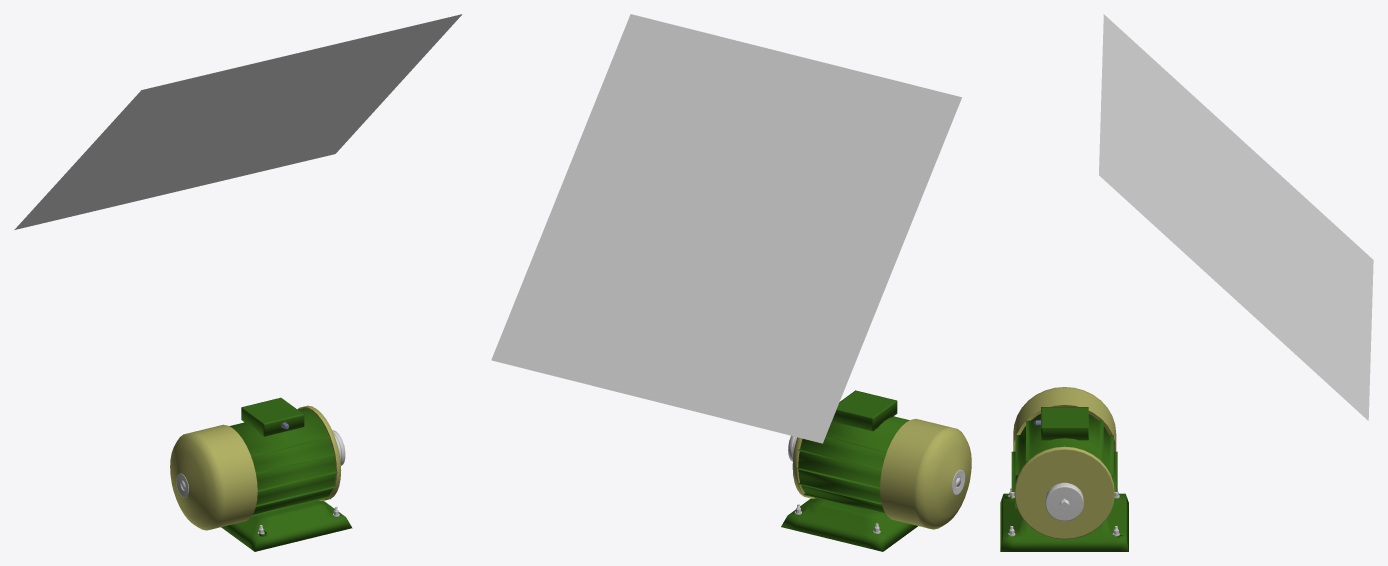
The model's file is motor_base.dae.
The picture shows the model from 3 angles, left to right: view 1: azimuth 30°, elevation 25°; view 2: azimuth 150°, elevation 25°; view 3: azimuth 270°, elevation 25°; orthographic projection. The views are drawn at different scales.
Visible parts, largest first — view 1: Reflector, fan_cover, casing, base, electric_box, front_casing; view 2: Reflector, fan_cover, casing, base, electric_box; view 3: Reflector, front_casing, base, casing, fan_cover, electric_box, Coupler.
Part boxes in pixels (left/top/right/bottom): Reflector: left=14, top=14, right=462, bottom=229; fan_cover: left=170, top=424, right=257, bottom=530; casing: left=229, top=408, right=337, bottom=516; base: left=221, top=500, right=352, bottom=551; electric_box: left=241, top=397, right=304, bottom=436; front_casing: left=297, top=405, right=341, bottom=500; Reflector: left=491, top=14, right=961, bottom=443; fan_cover: left=880, top=419, right=971, bottom=529; casing: left=796, top=416, right=909, bottom=515; base: left=781, top=498, right=917, bottom=551; electric_box: left=832, top=390, right=897, bottom=431; Reflector: left=1099, top=14, right=1373, bottom=420; front_casing: left=1014, top=446, right=1114, bottom=539; base: left=1000, top=493, right=1128, bottom=551; casing: left=1011, top=414, right=1117, bottom=508; fan_cover: left=1013, top=387, right=1116, bottom=451; electric_box: left=1041, top=407, right=1088, bottom=440; Coupler: left=1045, top=482, right=1083, bottom=521.
Size of what is drawn, in the model's own units: 4.04 by 3.91 by 5.3.
